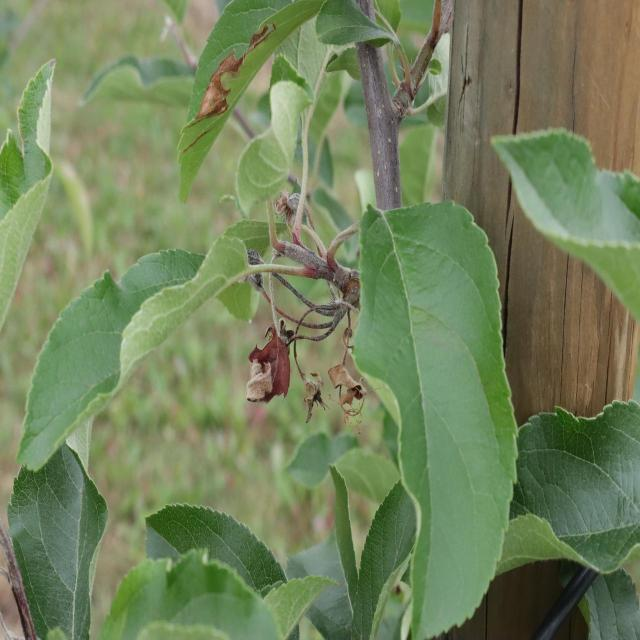-FireBlight-: (249, 266, 357, 427)
